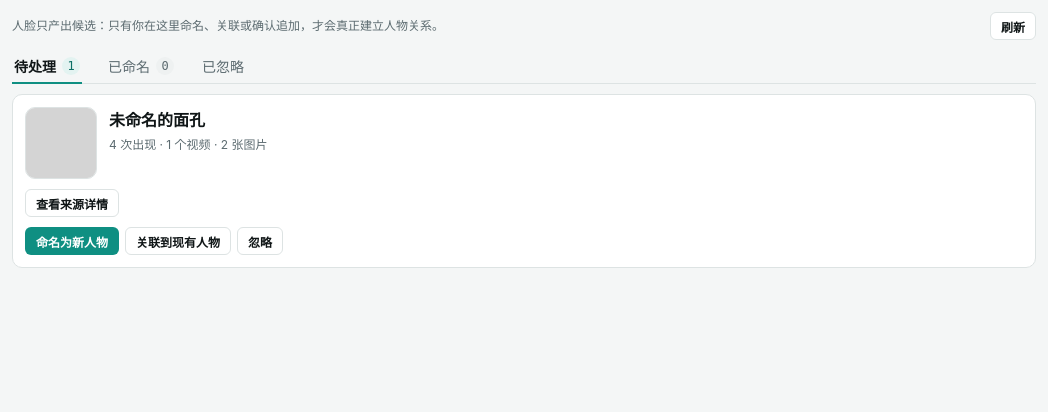
Test: FaceClusterReviewPanel › explains a naming conflict and refreshes the stale card
The image size is (1048, 412).
Click the button with test id "face-cluster-name-open-1" at (72, 241), box [25,227,119,255]
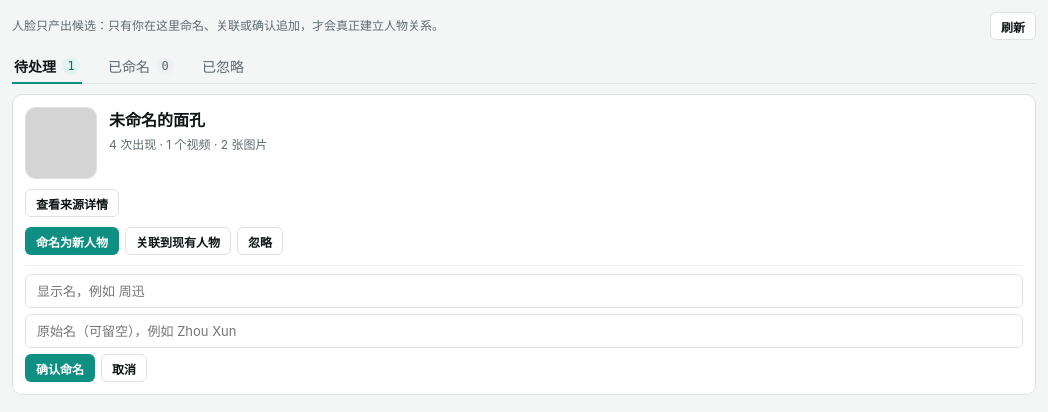
Type "周迅" into the field with test id "face-cluster-name-display" at (524, 291), box [25,274,1023,308]
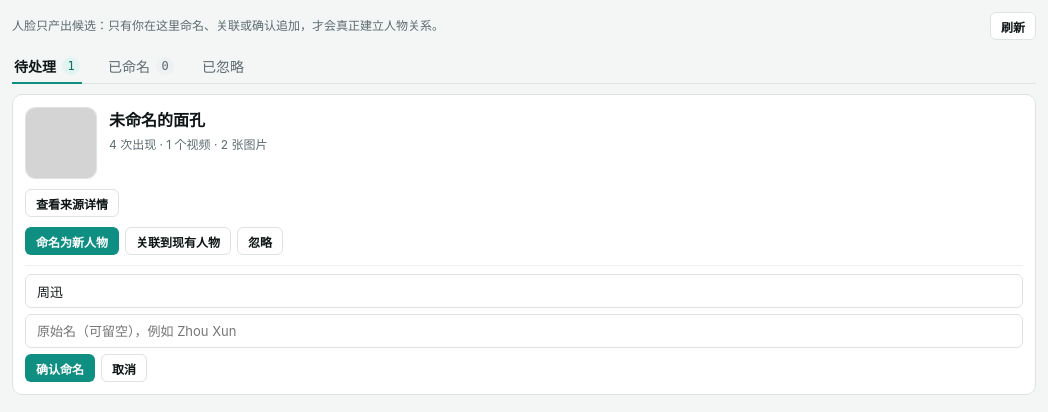
Click the button with test id "face-cluster-name-submit" at (60, 368), box [25,354,95,382]
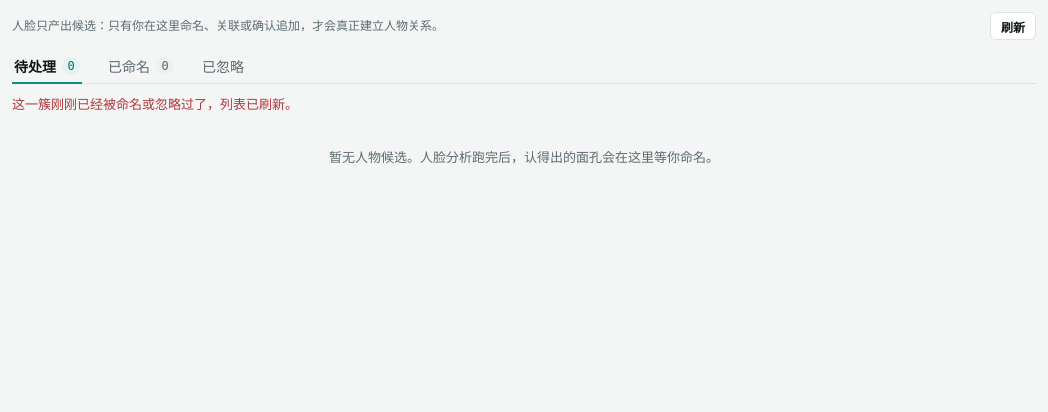
Result: the message with test id "face-cluster-review-error" shows "已经被命名或忽略过了" at [12,96,298,112]
